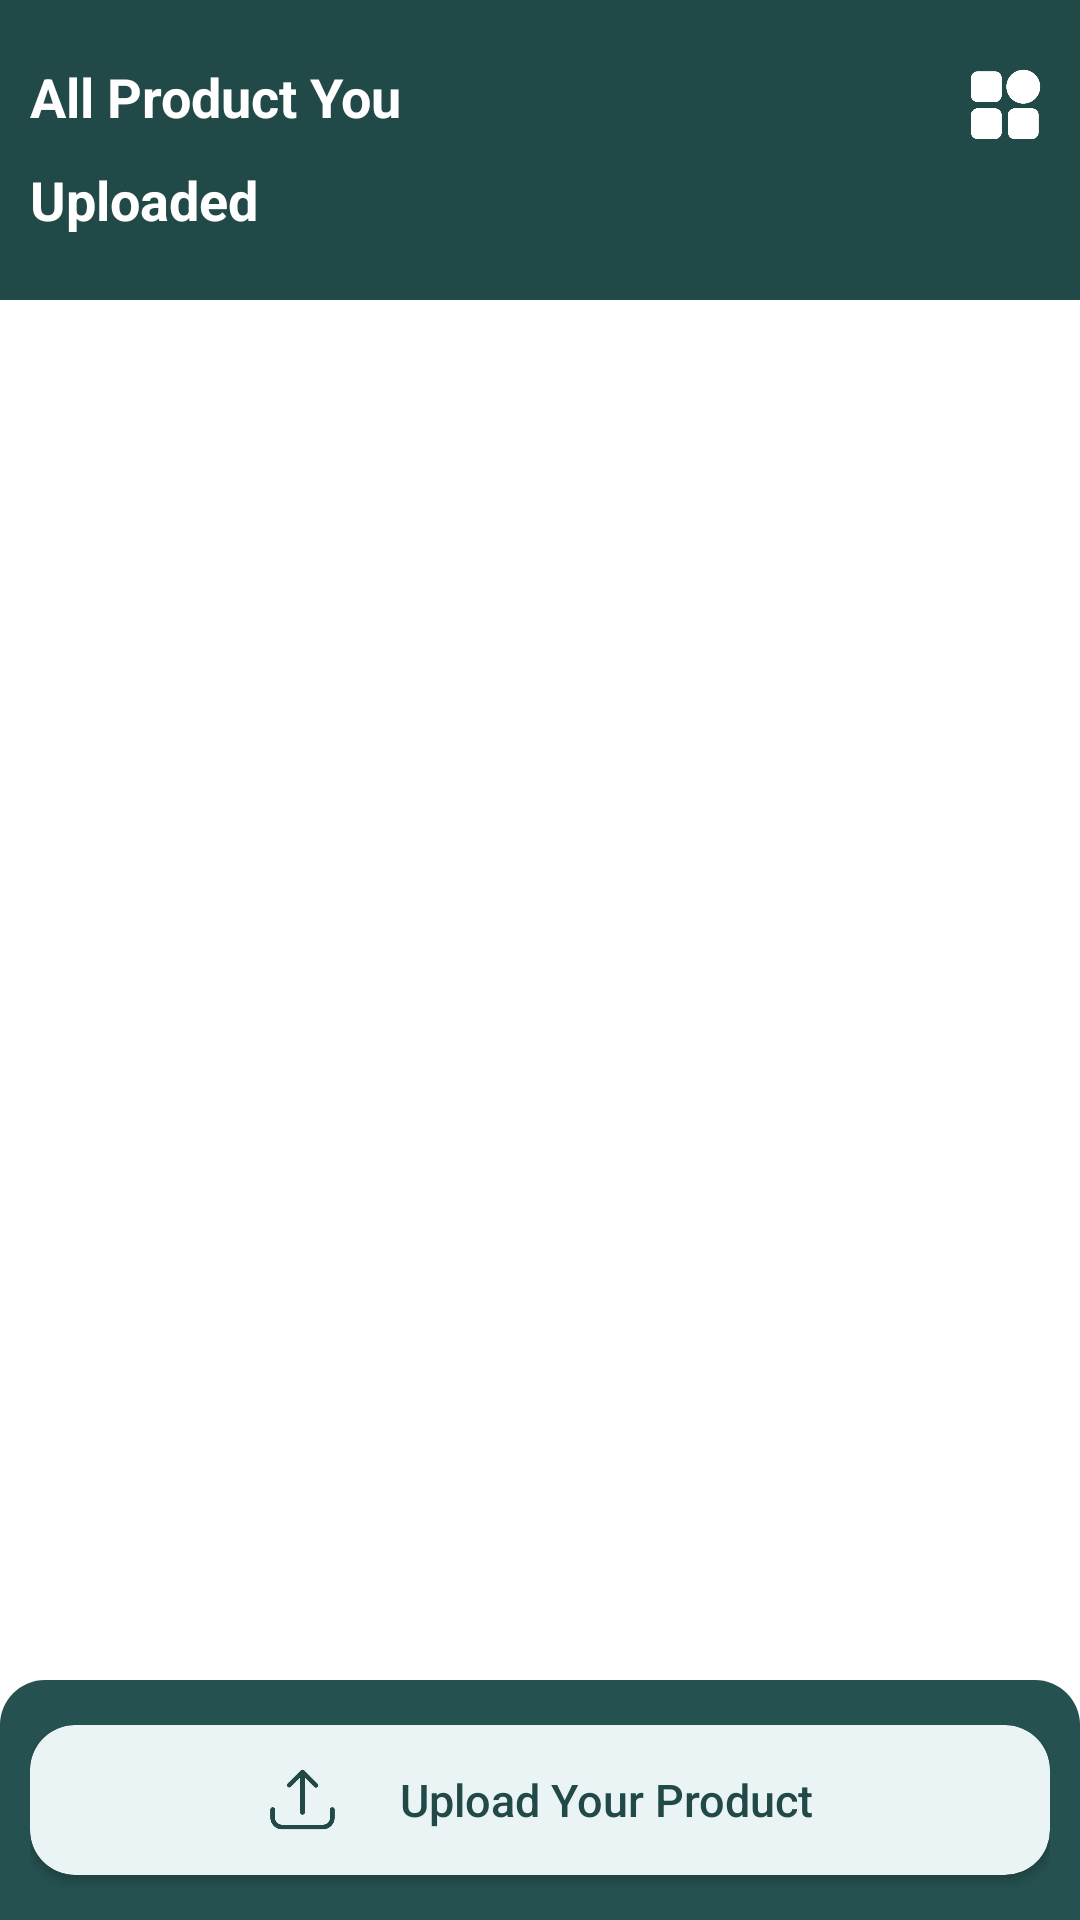

Icons on this 1080×1920 Android screen, each with its box as bbox=[x1, y1, x2, y2]:
category: bbox=[971, 70, 1040, 139]
